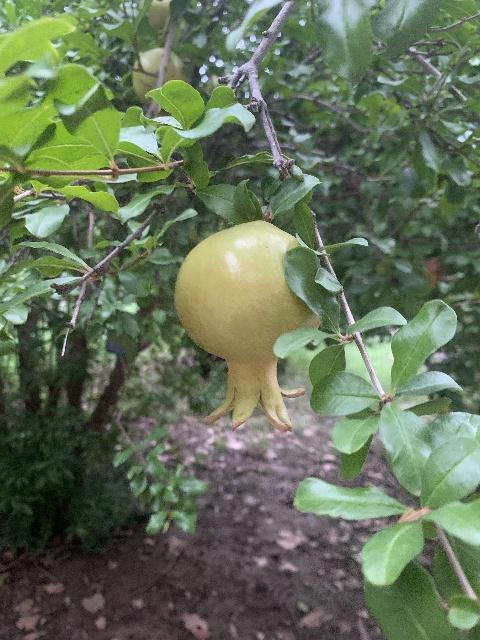mid-growth: (172, 218, 321, 433), (132, 48, 190, 110)
